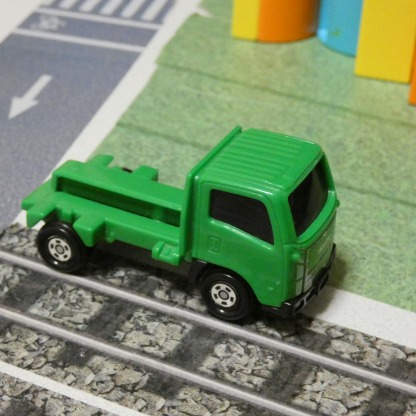car: (21, 127, 343, 326)
